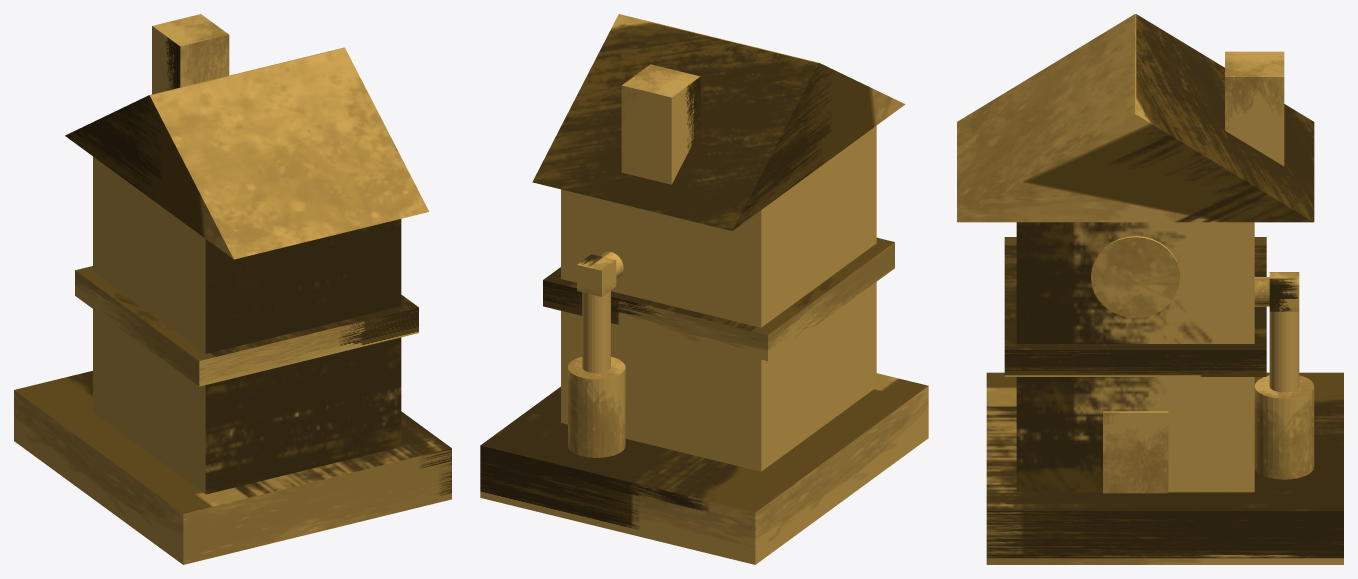
File: House1.obj
3 renders of one model, left to right at view 1: azimuth 30°, elevation 25°; view 2: azimuth 150°, elevation 25°; view 3: azimuth 270°, elevation 25°, orthographic. The views are drawn at different scales.
Parts seen in each view (by area): view 1: 本体; view 2: 本体; view 3: 本体.
Part boxes in pixels (x1,y1,x2,y2): 本体: (14,14,451,564); 本体: (480,14,928,564); 本体: (957,14,1343,564).
Size of the model in its own units: 5.5 by 8 by 6.5.
